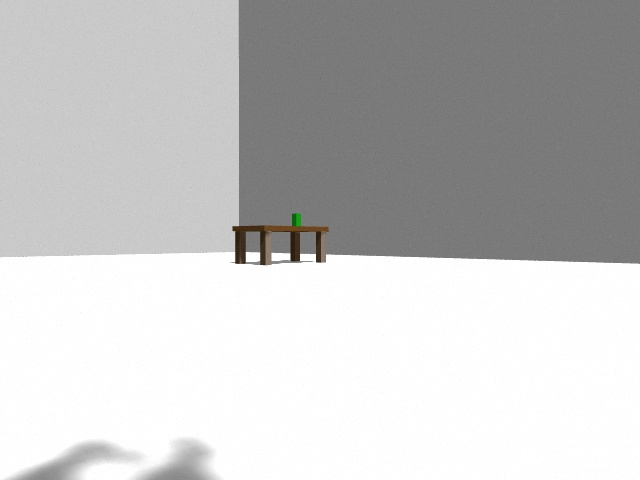green_cube: (292, 213, 301, 226)
